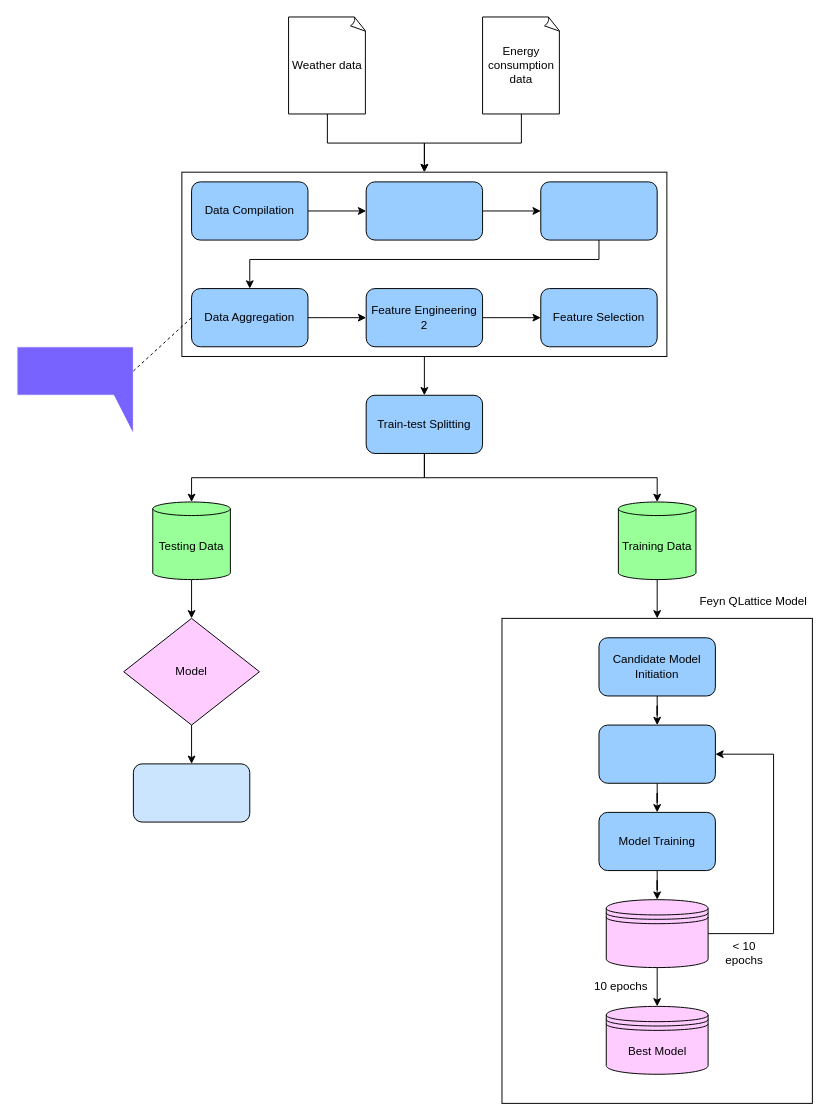
Some shapes in this 829 by 1120 pixel diagram are drawn without their labels. Here are the shapes that lost their labels. From the top down, the box of each, then its label:
(365, 181, 483, 240): Data cleaning
(540, 181, 657, 240): Feature Engineering 1
(16, 346, 133, 434): hourly to daily data conversion
(598, 724, 715, 783): Model Sampling
(132, 763, 250, 822): Predictions
(605, 899, 708, 968): Top Performing Models
